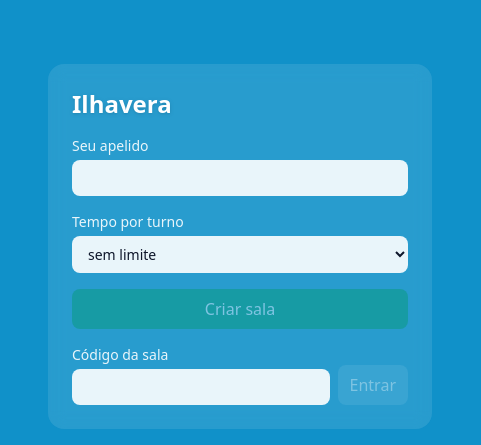
Test: tela de sala › mostra quem caiu, sem tirar da lista
(page scrolled)
In the field with test id "apelido": [240, 178] box [72,160,408,196], type "Ana"
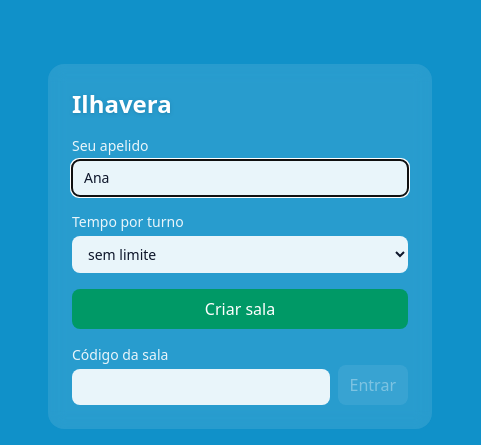
Click the button "Criar sala": [240, 309] box [72,289,408,329]
(page scrolled)
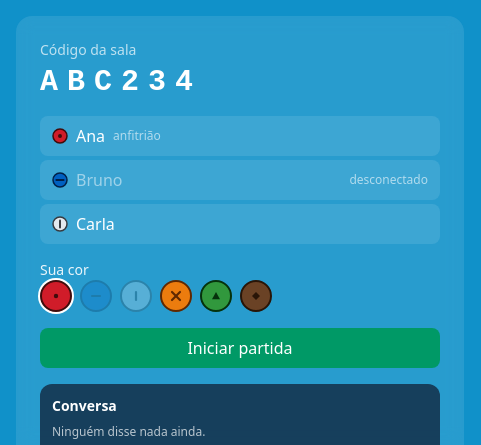
Now the text "ABC234" is shown, box [40,65,202,99]
Now the text "Bruno" is shown, box [76,168,122,192]
